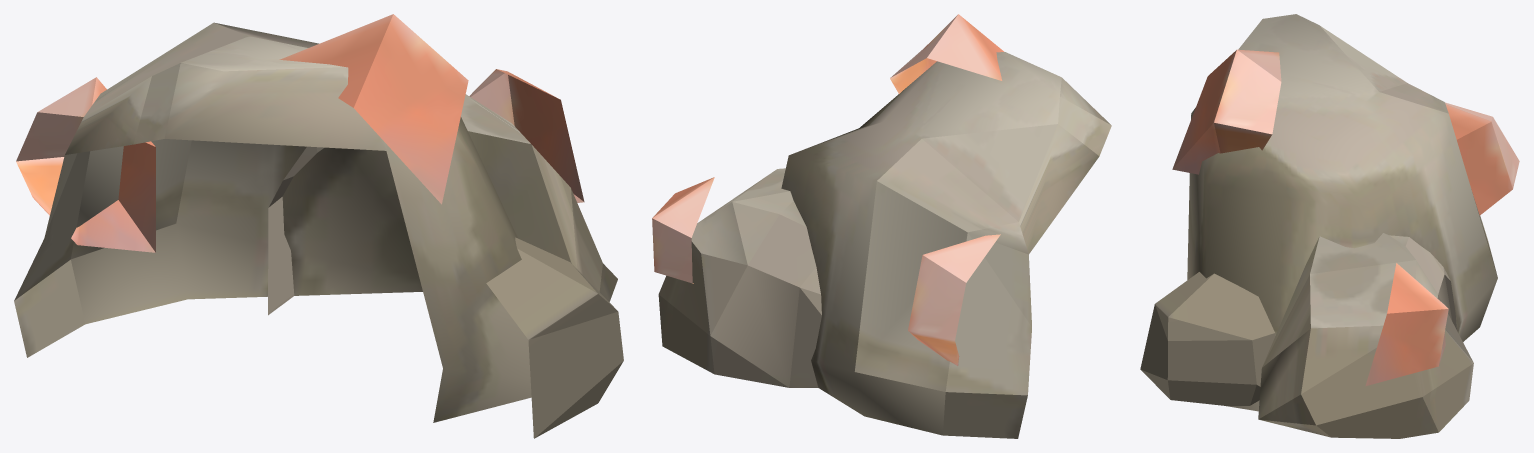
Rendered from RockMediumGypsum.fbx.
The picture shows the model from 3 angles, left to right: view 1: azimuth 30°, elevation 25°; view 2: azimuth 150°, elevation 25°; view 3: azimuth 270°, elevation 25°; orthographic projection. The views are drawn at different scales.
Visible parts, largest first — view 1: RockMesh, Resource3, Resource1, Resource2; view 2: RockMesh, Resource1, Resource3, Resource2; view 3: RockMesh, Resource3, Resource2, Resource1.
Boxes of the visible parts, x1,y1,x2,y2 form: RockMesh: (14, 22, 623, 438); Resource3: (279, 14, 468, 204); Resource1: (16, 77, 155, 252); Resource2: (469, 69, 584, 202); RockMesh: (658, 52, 1111, 438); Resource1: (908, 234, 1000, 365); Resource3: (890, 14, 1004, 93); Resource2: (652, 177, 714, 283); RockMesh: (1140, 14, 1497, 438); Resource3: (1172, 49, 1281, 174); Resource2: (1365, 263, 1448, 386); Resource1: (1445, 102, 1519, 215).
Size of what is drawn, in the model's own units: 1.59 by 1.17 by 1.38.
